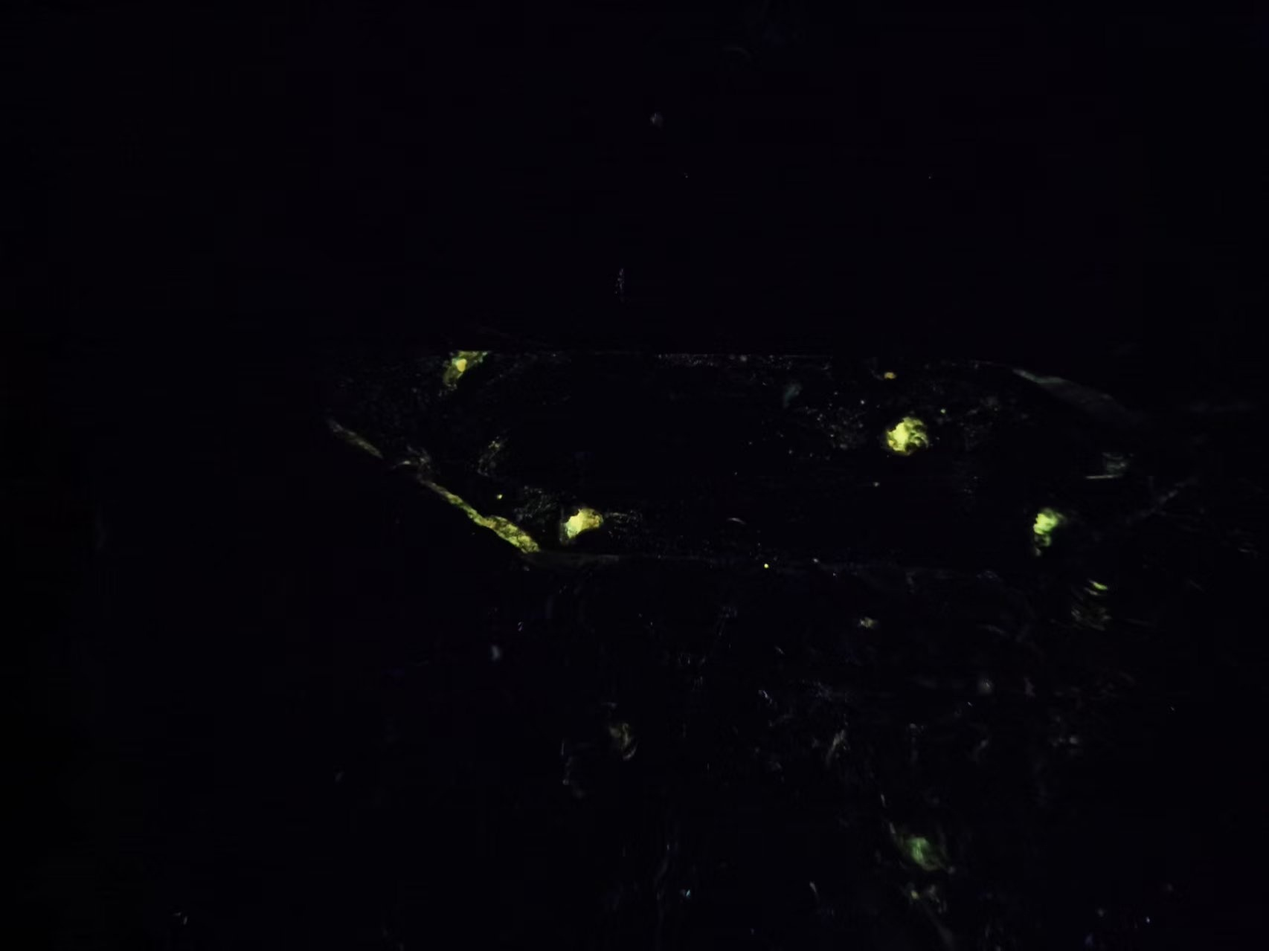Crater: (543, 486, 624, 563), (1019, 486, 1094, 563), (857, 406, 950, 467), (422, 342, 511, 405)
